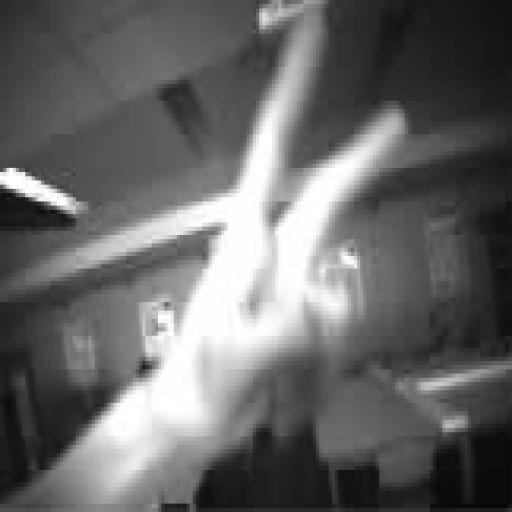human: (7, 9, 407, 507)
